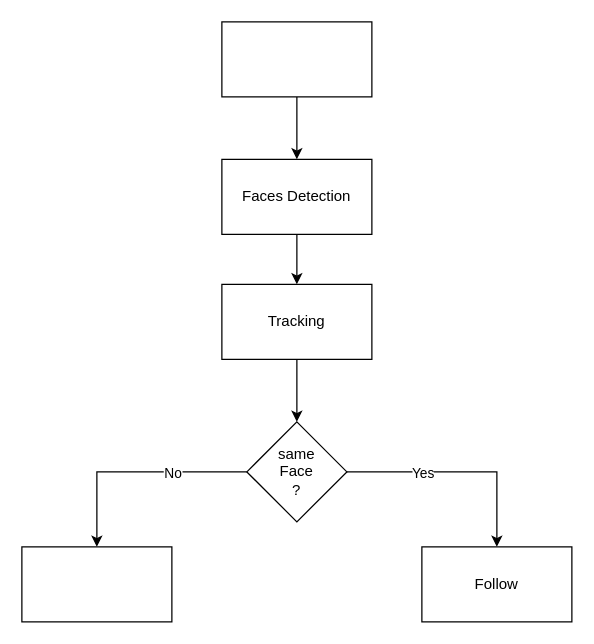
Image size: 594x644. Some labels were removed from this diagram. The shapes that lost their labels are listed below. From the top down, each one's centre as x and y in pixels, then its label:
the point at 296,59: FRAME
the point at 96,584: Encoding
